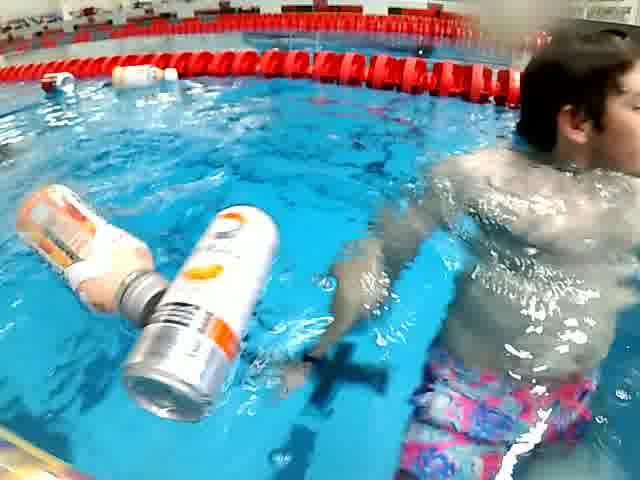Bottle: (7, 172, 176, 332), (106, 60, 182, 94)
Can: (158, 198, 294, 444), (0, 415, 112, 479), (33, 65, 79, 101)
